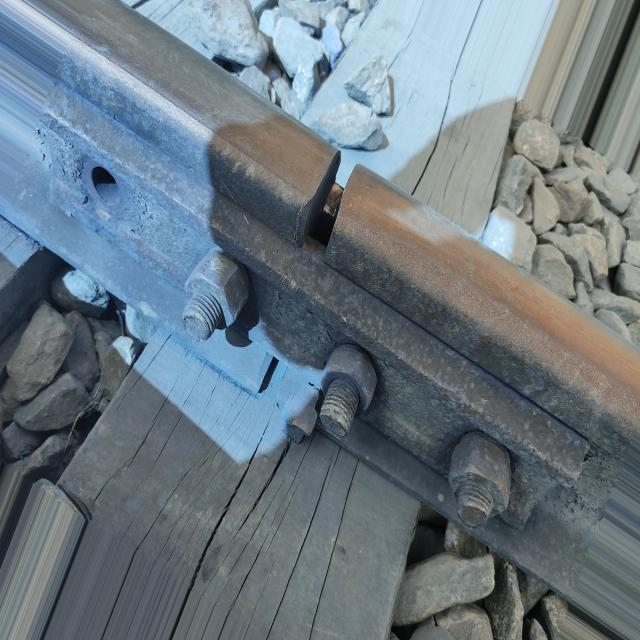Defective Joint: (30, 84, 584, 542)
